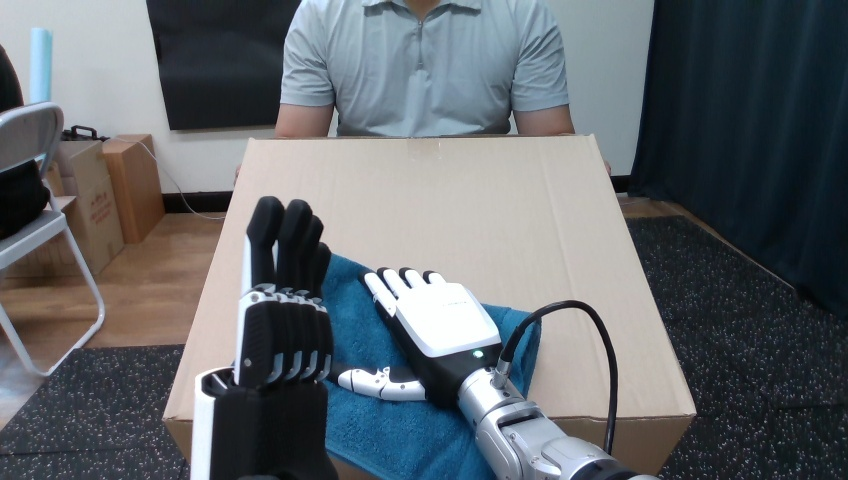left robot hand: (333, 267, 649, 479), (191, 196, 336, 479), (507, 307, 611, 450)
